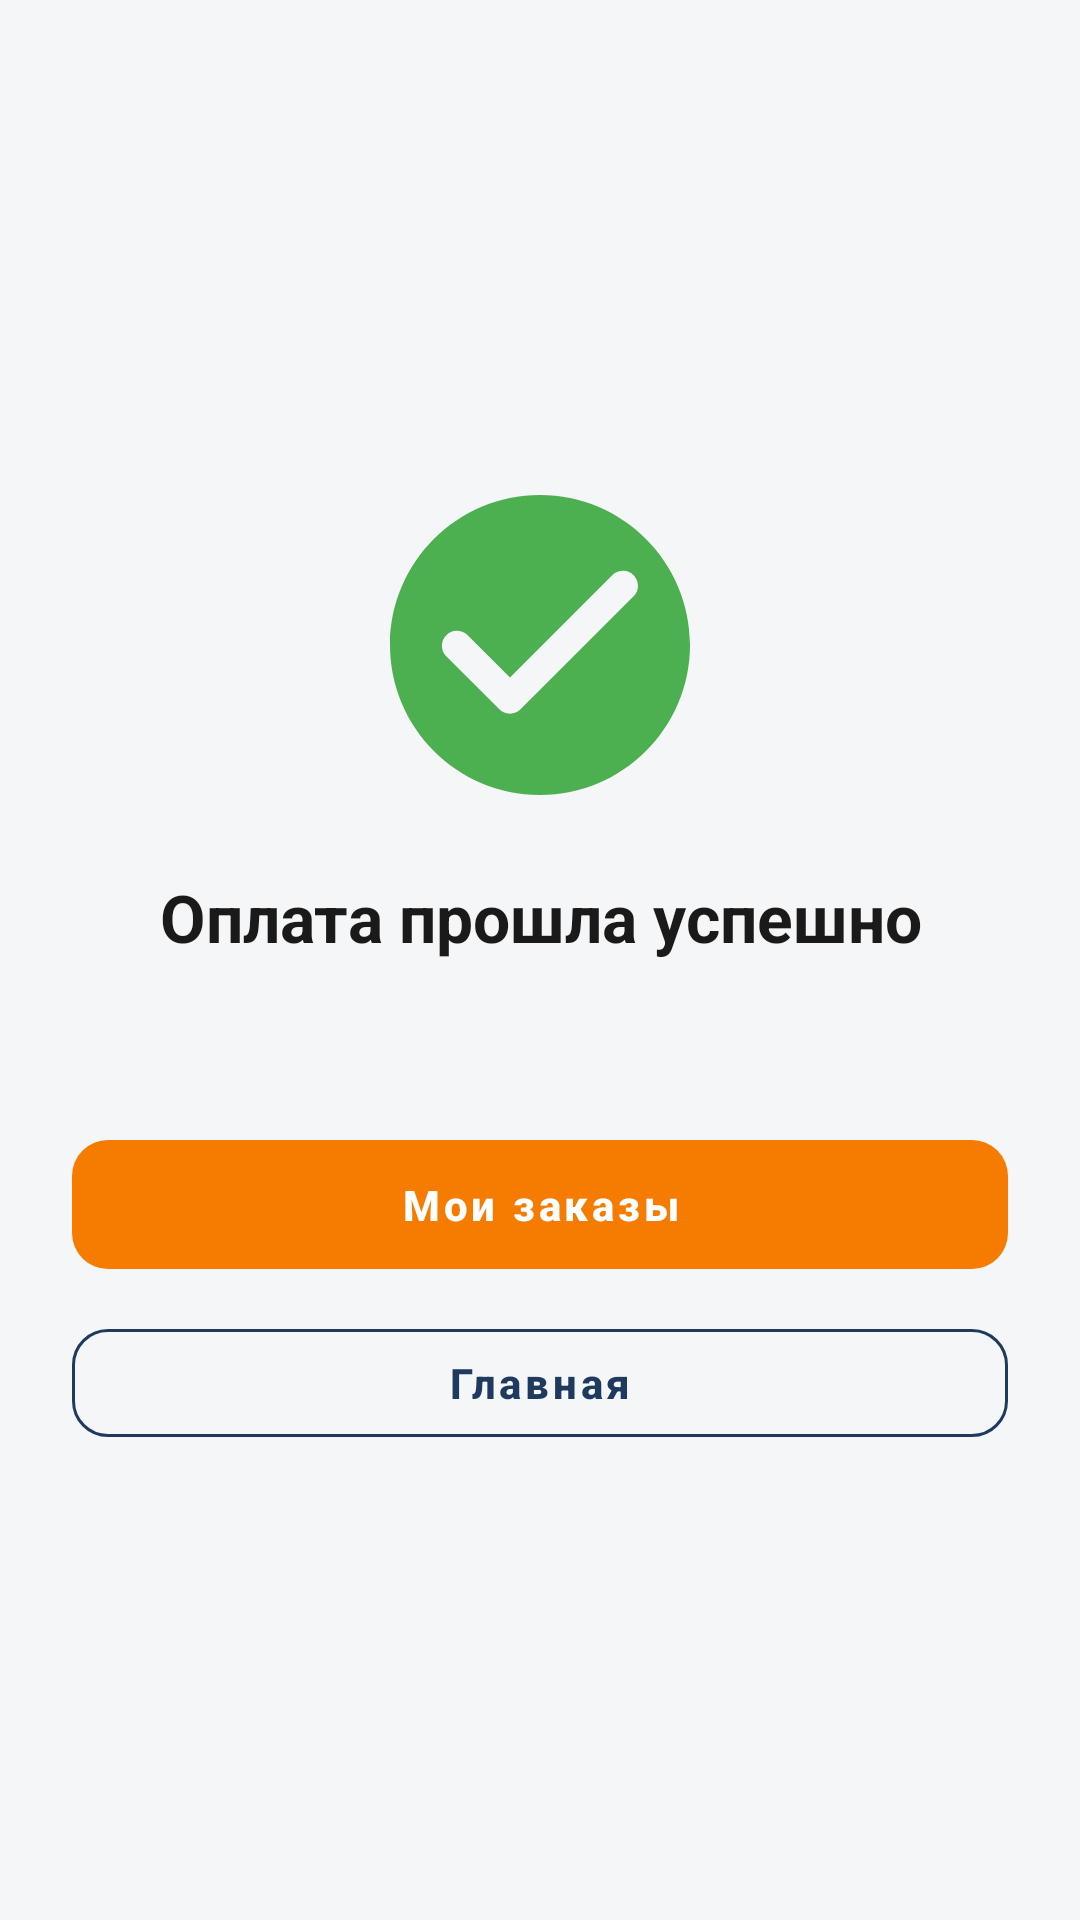

Named icons in this screenshot (1080×1920) and their centers, (x=x, y=y):
success: (x=540, y=645)
